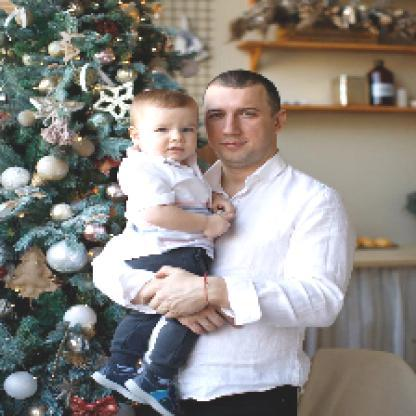child: (92, 90, 239, 415)
